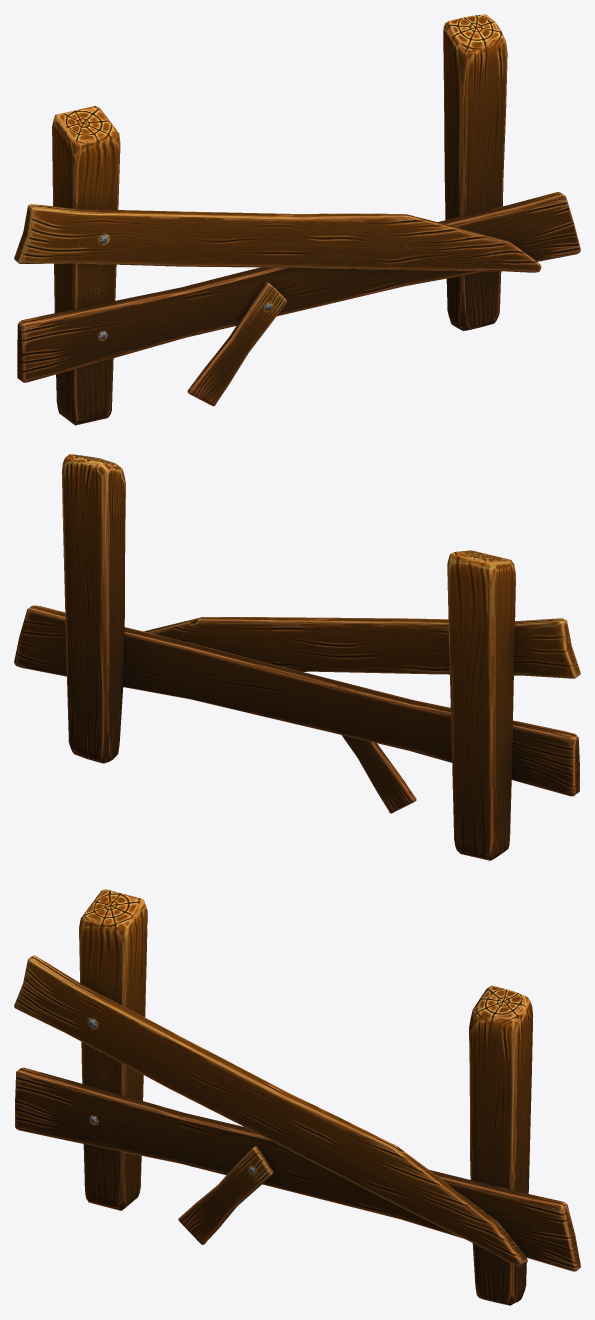
Rendered from HOS0710005.FBX.
3 views of the same model, one above another, from view 1: azimuth 30°, elevation 25°; view 2: azimuth 150°, elevation 25°; view 3: azimuth 330°, elevation 25° (orthographic).
Visible parts, largest first — view 1: smHOS0710005; view 2: smHOS0710005; view 3: smHOS0710005.
Boxes of the visible parts, bbox=[...] form: smHOS0710005: bbox=[14, 14, 580, 425]; smHOS0710005: bbox=[14, 454, 580, 860]; smHOS0710005: bbox=[14, 889, 580, 1305].
Size of the model in its own units: 196 by 101 by 23.09.
1 material, 1 textured.
